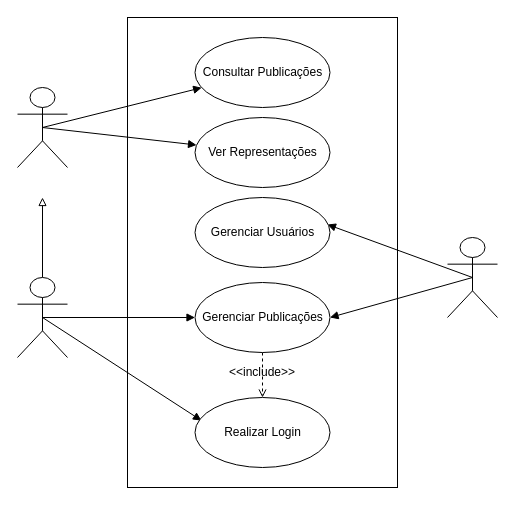
Image size: 527x505. Some labels were removed from this diagram. Here are the shapes that lost their labels. From the top down, the box of each, then its label:
(16, 86, 68, 168): Visitante
(446, 236, 498, 318): Administrador
(16, 276, 68, 358): Autor
